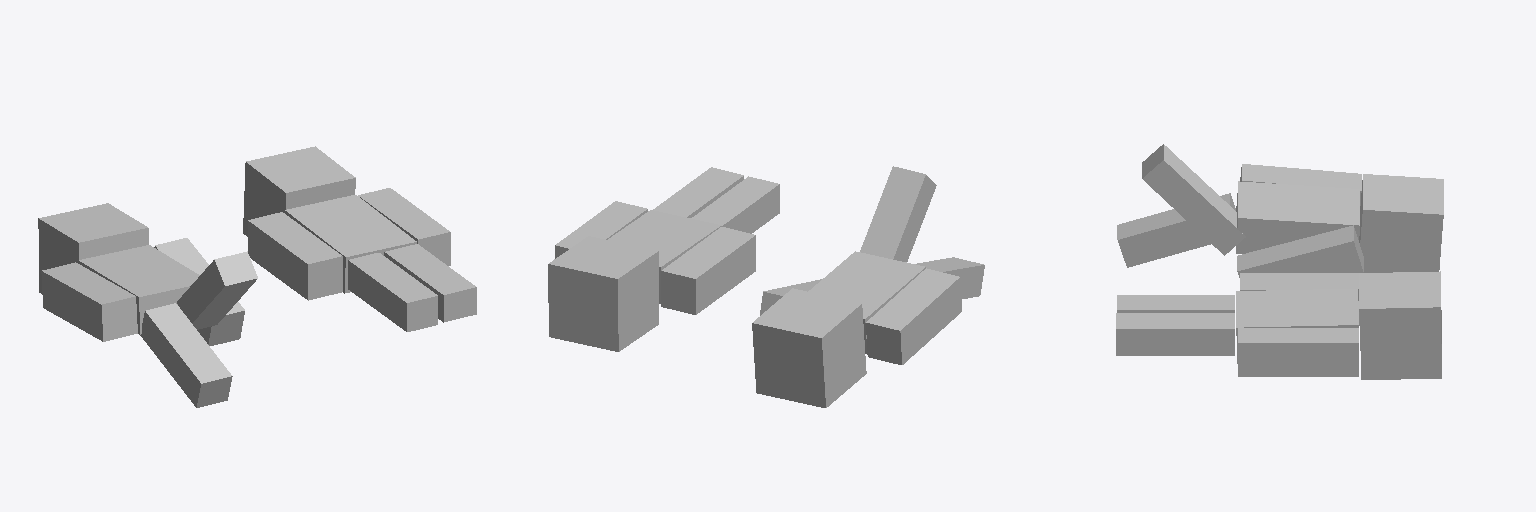
Rendered from steve_000035.obj.
3 renders of one model, left to right at view 1: azimuth 30°, elevation 25°; view 2: azimuth 150°, elevation 25°; view 3: azimuth 270°, elevation 25°, orthographic.
Visible parts, largest first — view 1: Cube.001_Cube.002, Cube_Cube.001; view 2: Cube_Cube.001, Cube.001_Cube.002; view 3: Cube_Cube.001, Cube.001_Cube.002.
Boxes of the visible parts, x1,y1,x2,y2 form: Cube.001_Cube.002: [243, 146, 476, 331]; Cube_Cube.001: [38, 203, 257, 407]; Cube_Cube.001: [752, 166, 984, 407]; Cube.001_Cube.002: [548, 167, 779, 351]; Cube_Cube.001: [1117, 144, 1443, 277]; Cube.001_Cube.002: [1116, 271, 1441, 379].
Size of the model in its own units: 6.55 by 2.29 by 5.36.